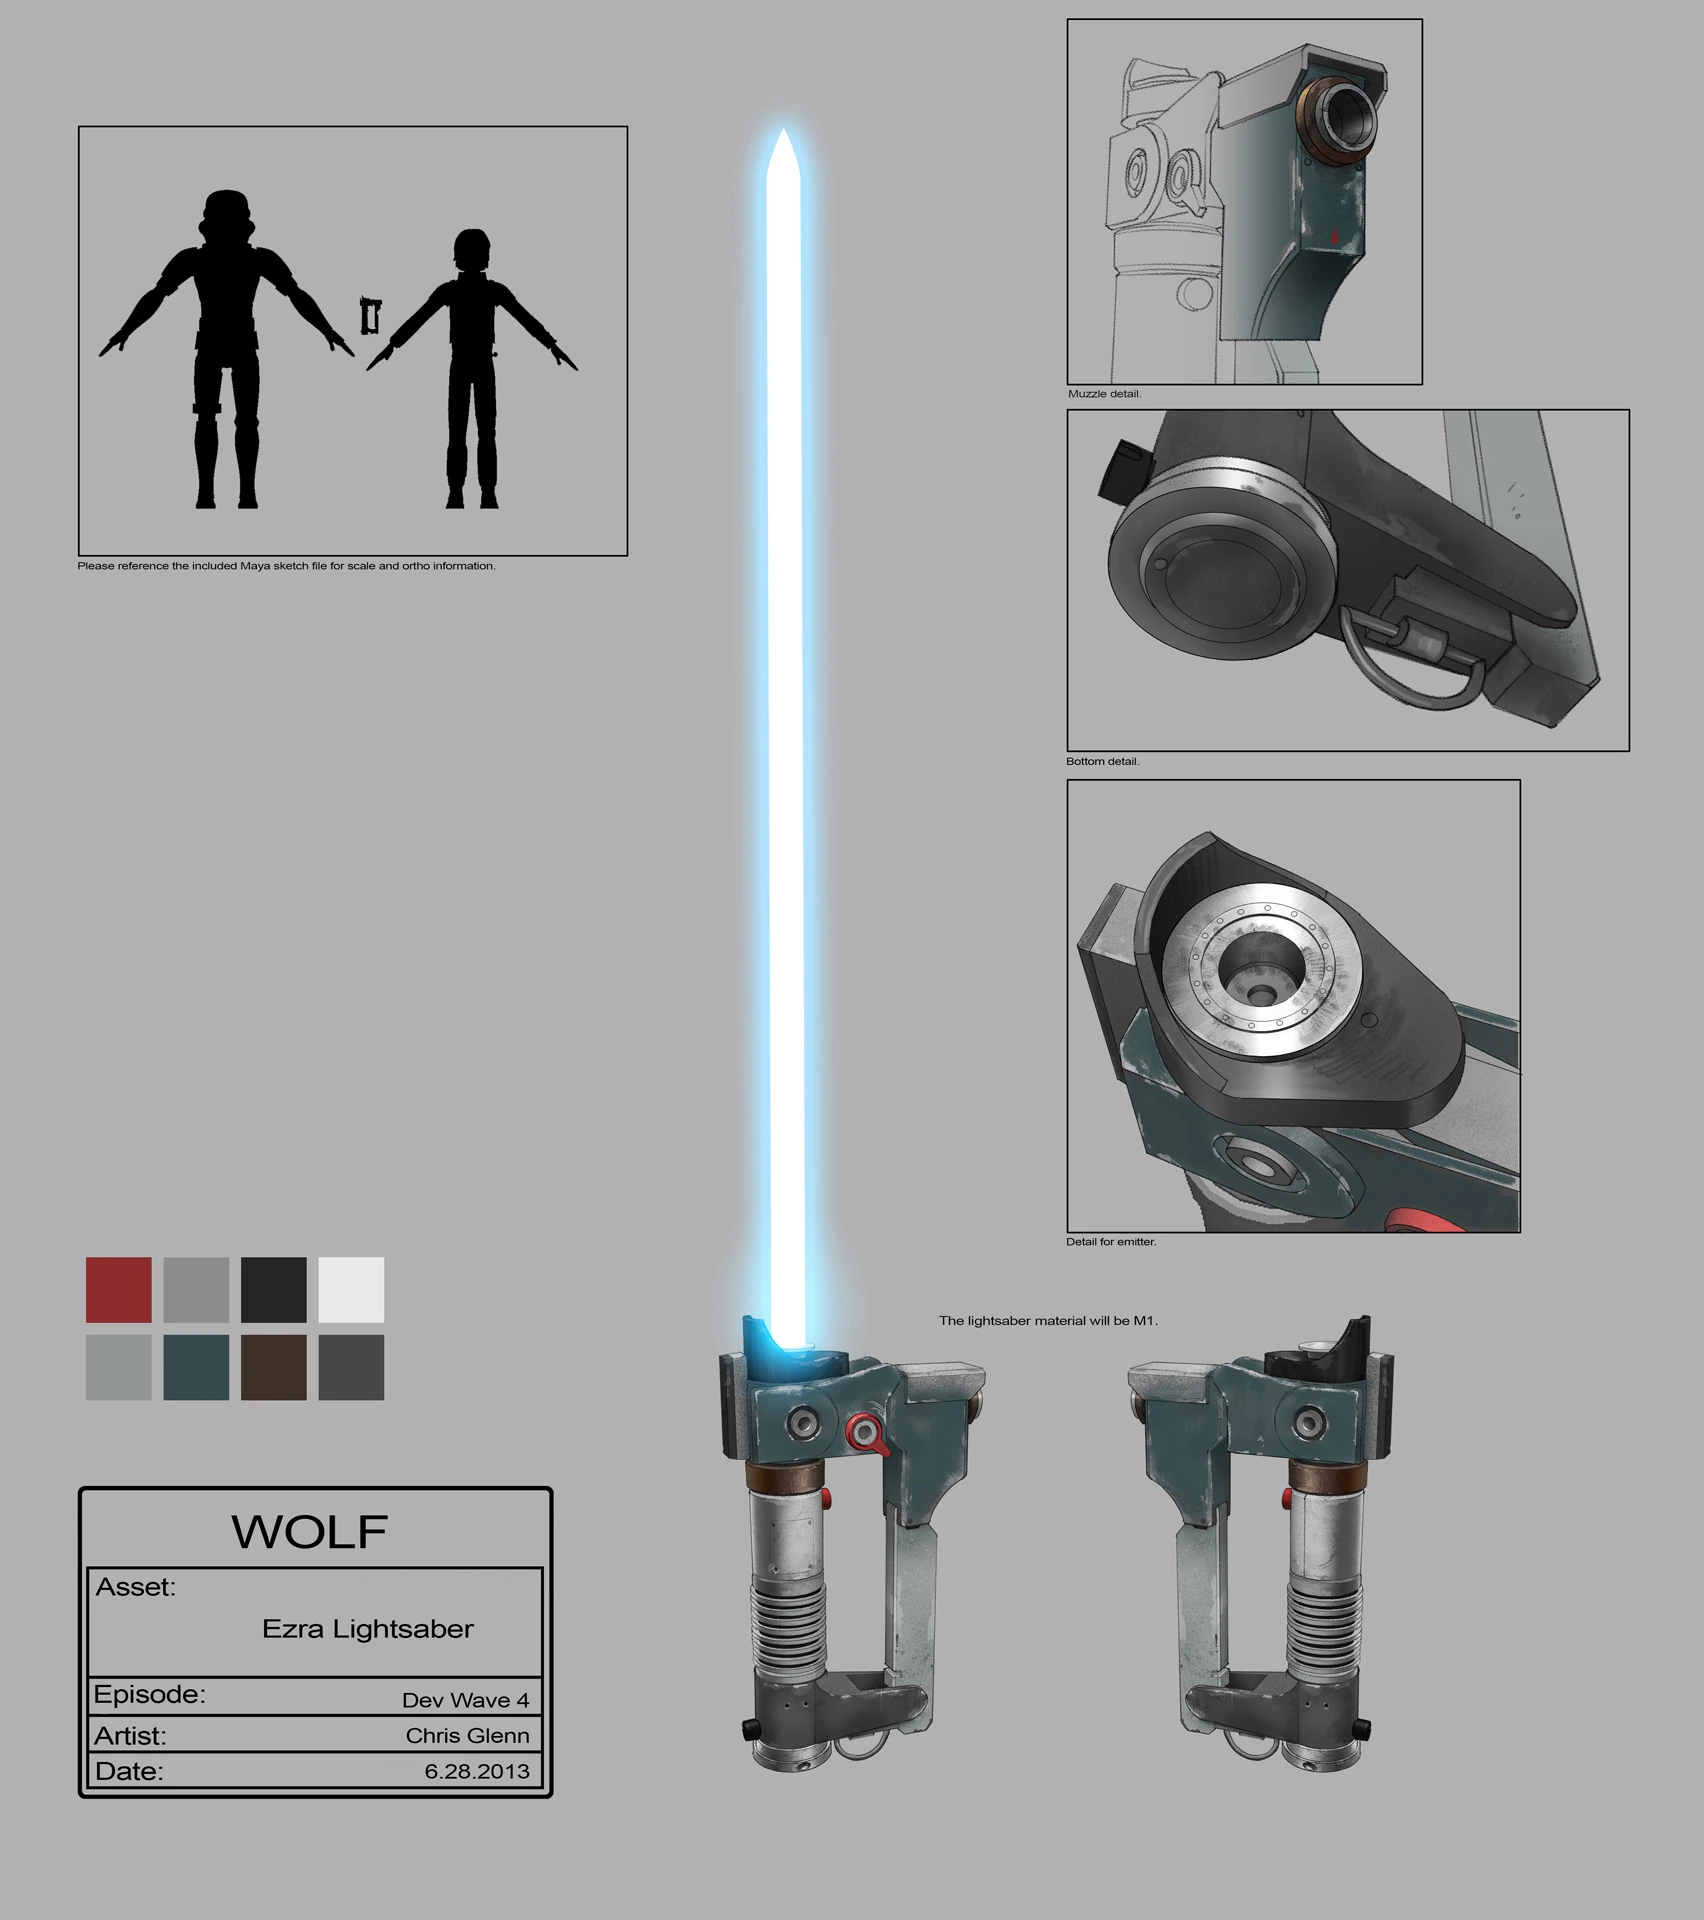Dalek: (739, 109, 842, 1787)
